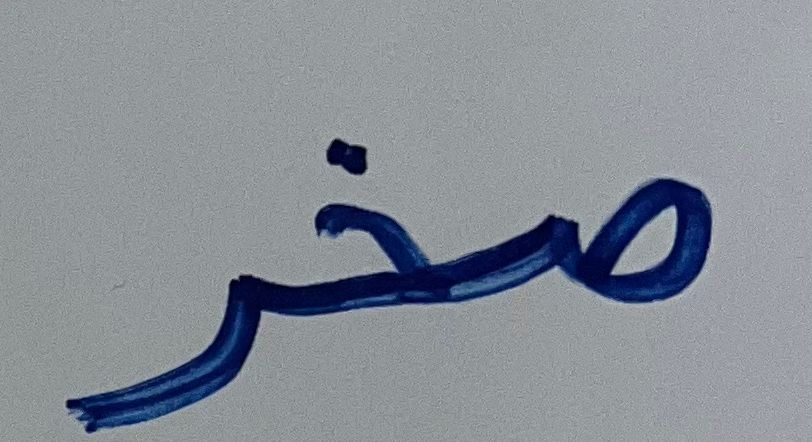khah: (274, 99, 467, 343)
reh: (29, 224, 270, 437)
sad: (475, 154, 731, 337)
